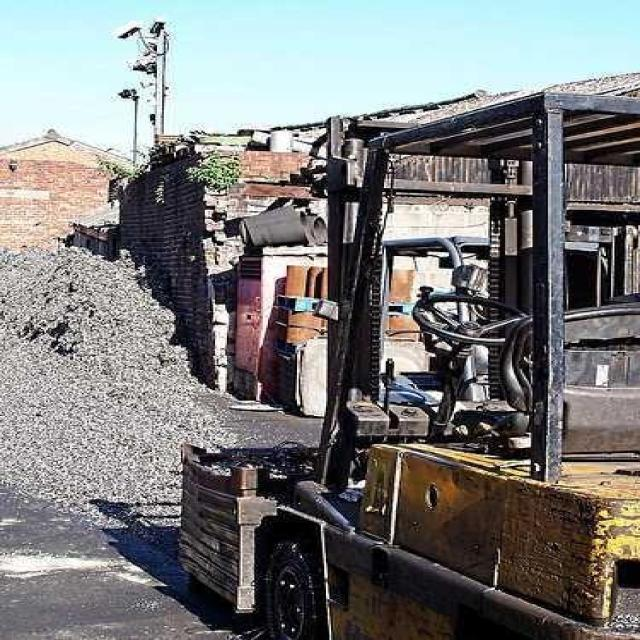forklift: (261, 92, 640, 640)
